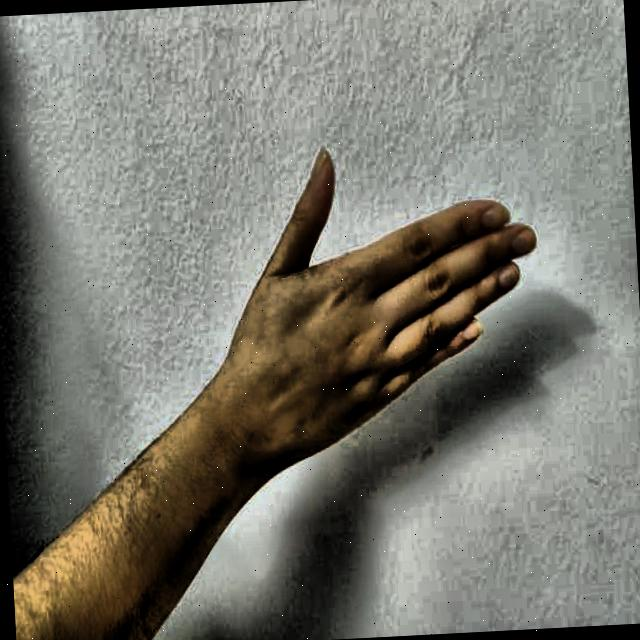Aa: (218, 80, 570, 479)
